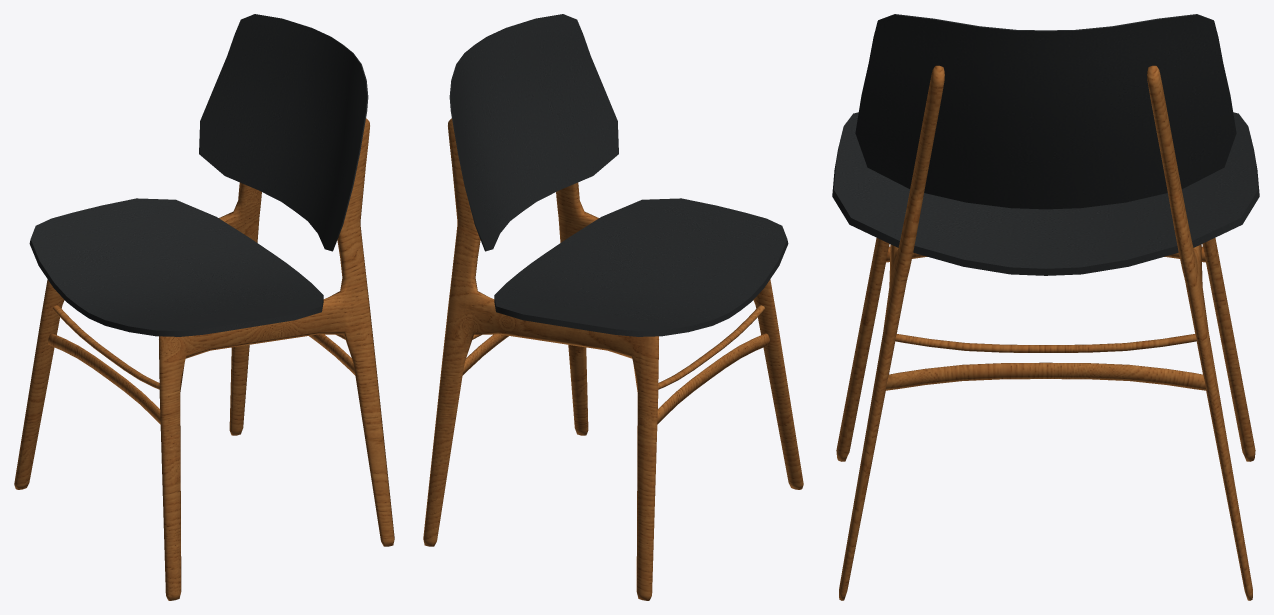
The model's file is ordinary_school_chair.glb.
3 renders of one model, left to right at view 1: azimuth 30°, elevation 25°; view 2: azimuth 150°, elevation 25°; view 3: azimuth 270°, elevation 25°, orthographic. The views are drawn at different scales.
Parts seen in each view (by area): view 1: 3.LP, 2.LP, 1.LP, 4.LP; view 2: 3.LP, 2.LP, 1.LP, 4.LP; view 3: 2.LP, 3.LP, 1.LP, 4.LP.
Part boxes in pixels (x1,y1,x2,y2): 3.LP: [29, 198, 323, 336]; 2.LP: [199, 14, 368, 251]; 1.LP: [14, 118, 394, 600]; 4.LP: [48, 305, 355, 424]; 3.LP: [494, 198, 788, 336]; 2.LP: [449, 14, 618, 251]; 1.LP: [423, 118, 803, 600]; 4.LP: [462, 305, 769, 424]; 2.LP: [855, 14, 1236, 209]; 3.LP: [832, 112, 1259, 275]; 1.LP: [836, 65, 1255, 600]; 4.LP: [886, 246, 1205, 390].
Bounding box in the file's own units: 1.11 × 1.76 × 1.16.
1 material, 1 textured.
